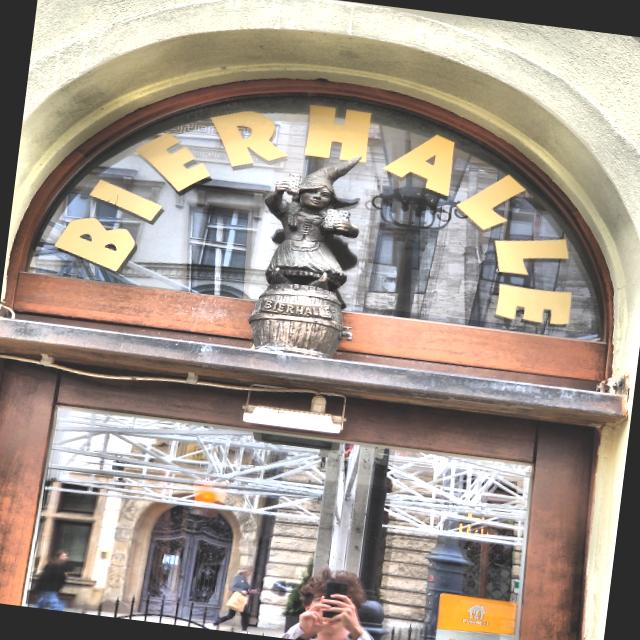Bawarka: (248, 156, 360, 358)
